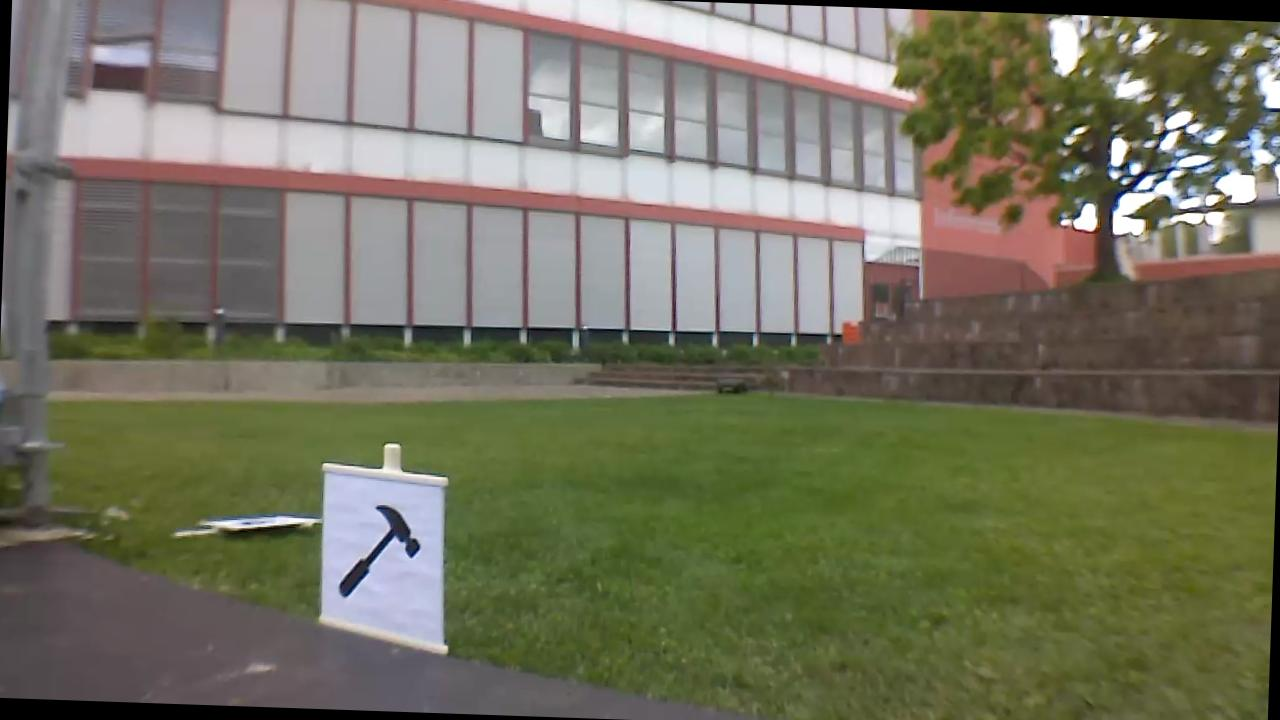hammer: (325, 497, 428, 612)
